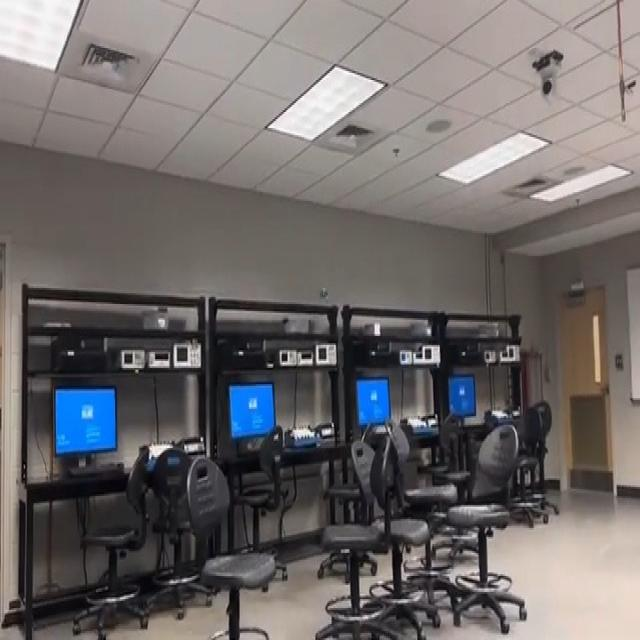drone: (309, 268, 334, 310)
